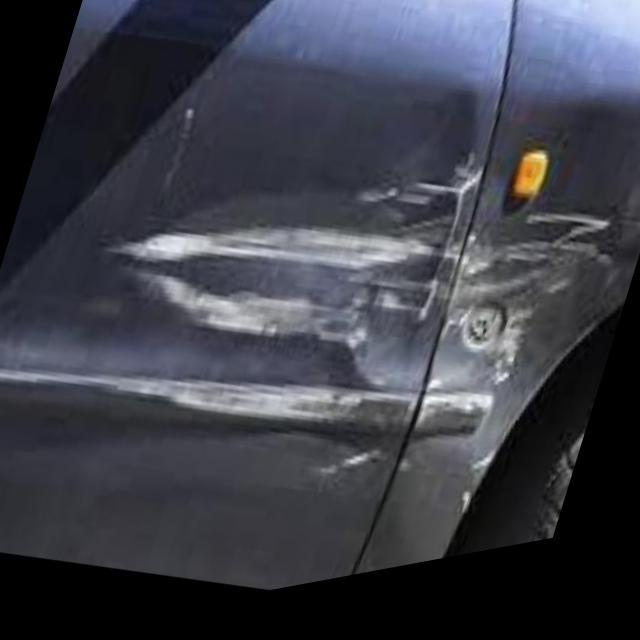rub: (108, 173, 612, 413), (157, 391, 361, 435)
